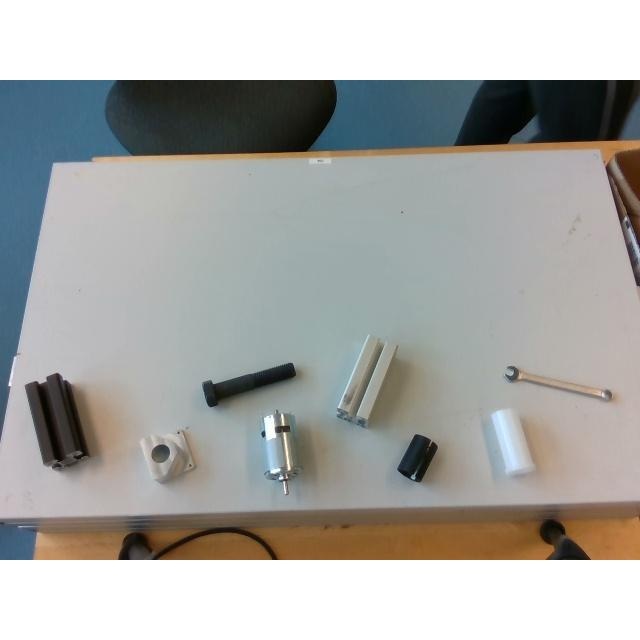M20_100: (202, 362, 294, 406)
Motor2: (260, 409, 308, 495)
S40_40_B: (25, 372, 87, 468)
S40_40_G: (337, 335, 397, 425)
Spacer: (490, 408, 534, 476)
